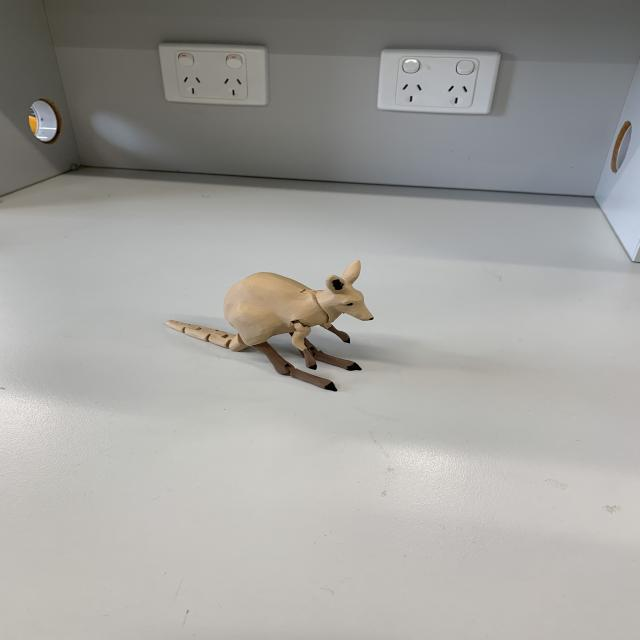kangaroo: (158, 238, 379, 412)
